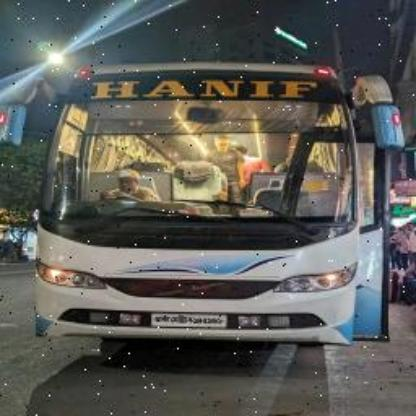bus: (37, 55, 397, 357)
